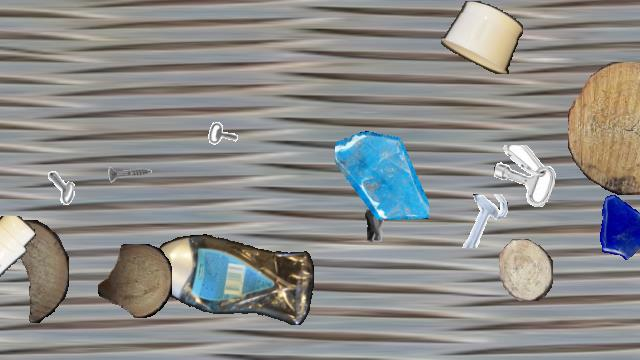glass: (335, 130, 429, 224), (590, 189, 640, 259)
metal: (494, 145, 556, 207), (456, 194, 510, 248), (47, 152, 101, 206), (350, 202, 400, 252), (106, 152, 152, 198), (208, 108, 248, 148)
plastic: (153, 233, 313, 329), (441, 1, 523, 73), (0, 216, 40, 324)
wood: (568, 62, 640, 194), (0, 220, 69, 322), (98, 244, 172, 318), (499, 239, 553, 301)
